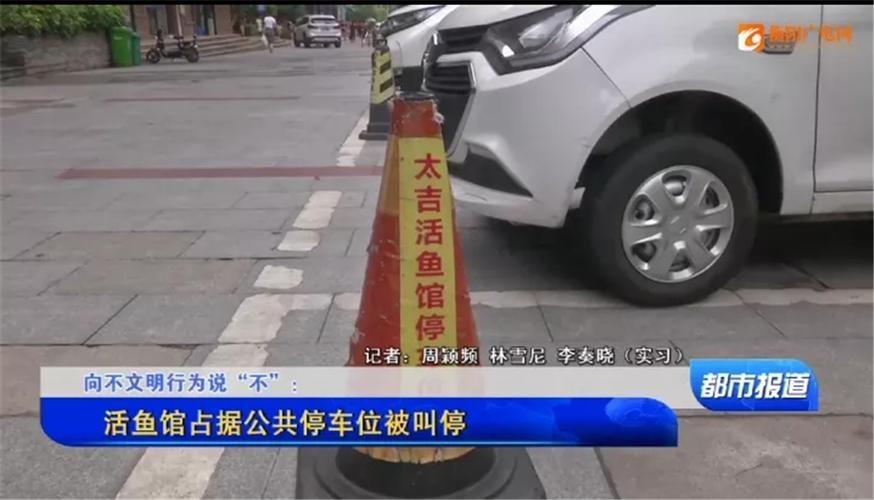cone_barrel: (339, 88, 497, 371), (359, 27, 399, 138)
